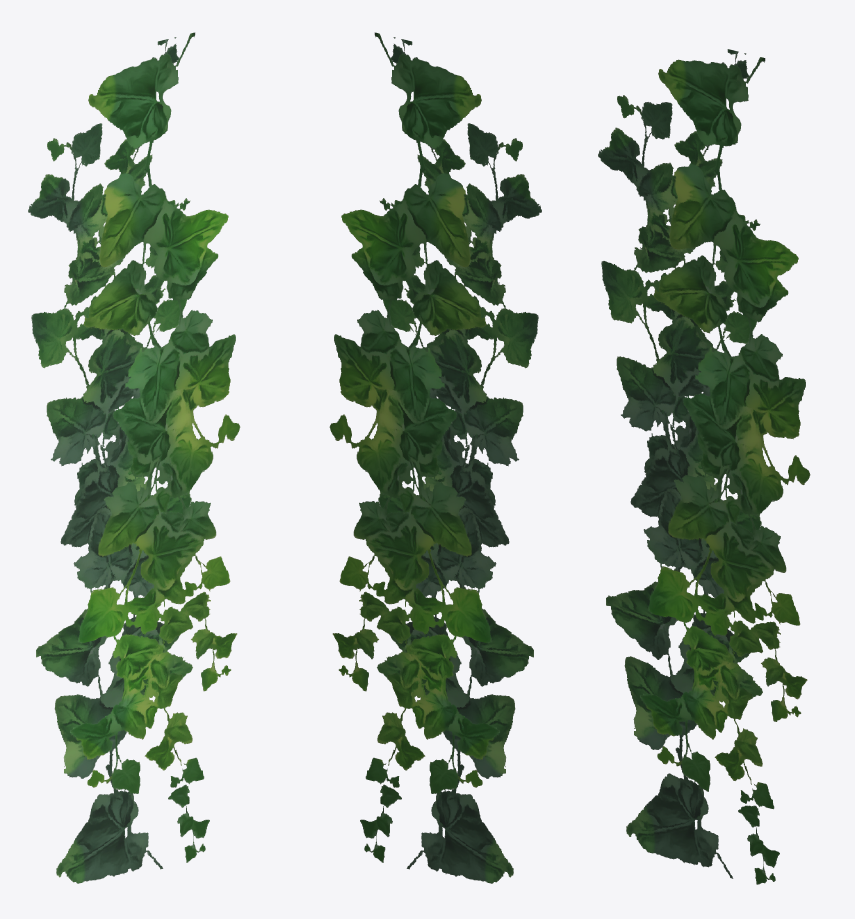
The model's file is ivy_2_dream.glb.
The picture shows the model from 3 angles, left to right: view 1: azimuth 30°, elevation 25°; view 2: azimuth 150°, elevation 25°; view 3: azimuth 330°, elevation 25°; orthographic projection.
Visible parts, largest first — view 1: Ivy_2; view 2: Ivy_2; view 3: Ivy_2.
Part boxes in pixels (x1=…): Ivy_2: x1=28, y1=32, x2=240, y2=883; Ivy_2: x1=329, y1=32, x2=541, y2=883; Ivy_2: x1=598, y1=49, x2=810, y2=884.
Size of the model in its own units: 1.19 by 3.66 by 1.93e-07.
1 material, 1 textured.
